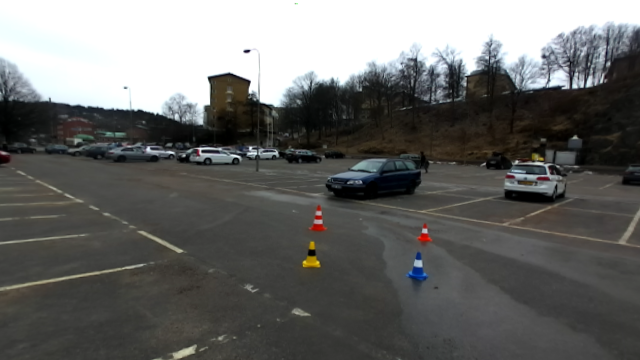blue: (405, 250, 430, 281)
orange: (417, 220, 432, 242)
orange2: (306, 204, 329, 232)
yellow: (301, 239, 320, 267)
